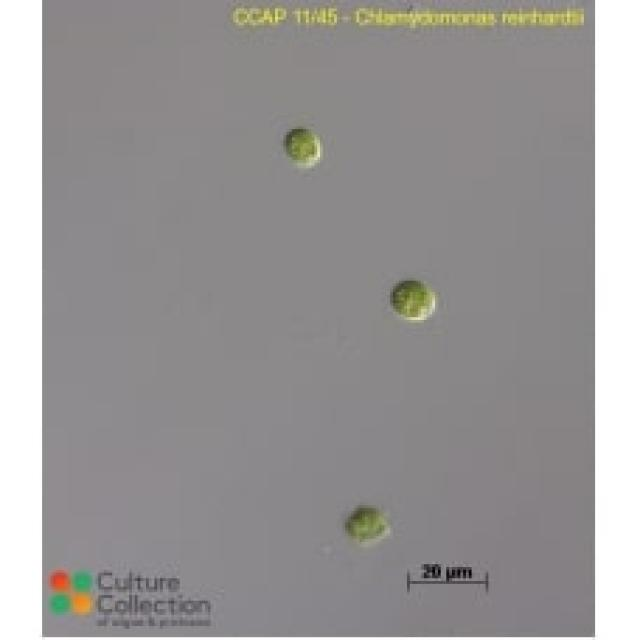Green Algae: (390, 275, 438, 323), (345, 502, 390, 548), (284, 124, 320, 168)
